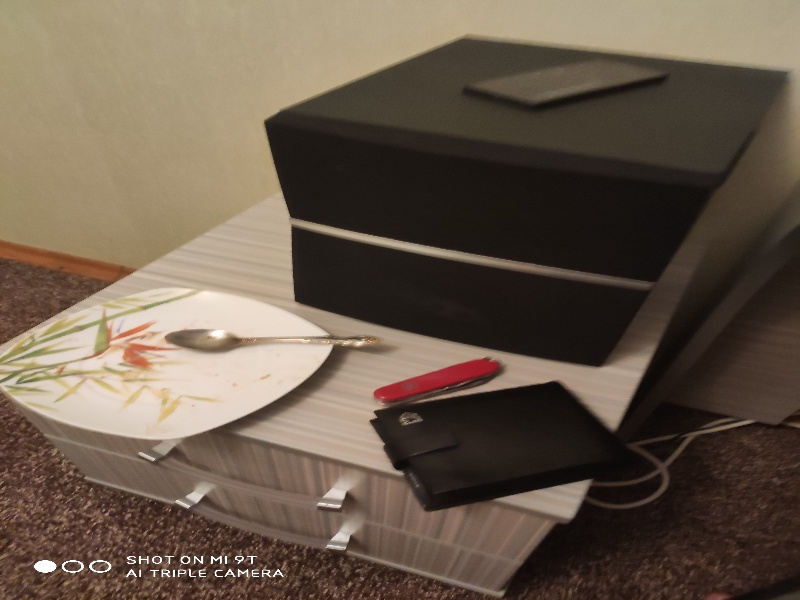knife: (368, 348, 511, 401)
wallet: (368, 371, 631, 518)
